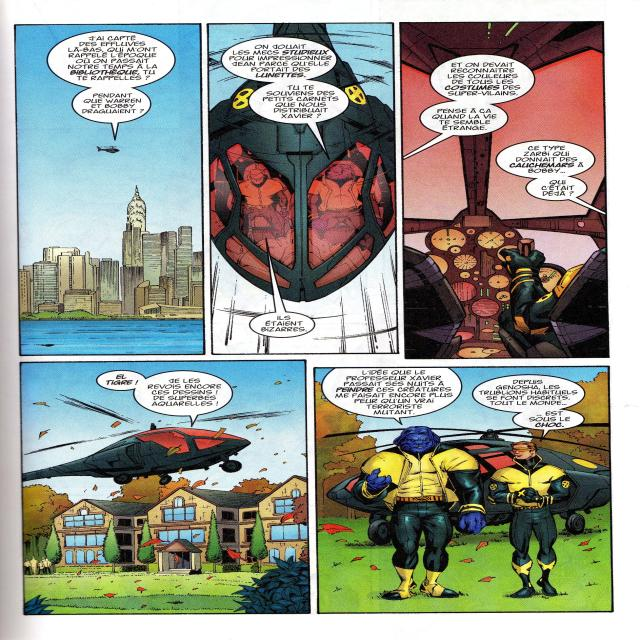comic_panel: (312, 366, 614, 614), (19, 360, 311, 616), (399, 21, 610, 359), (206, 22, 400, 355), (15, 23, 205, 357)
